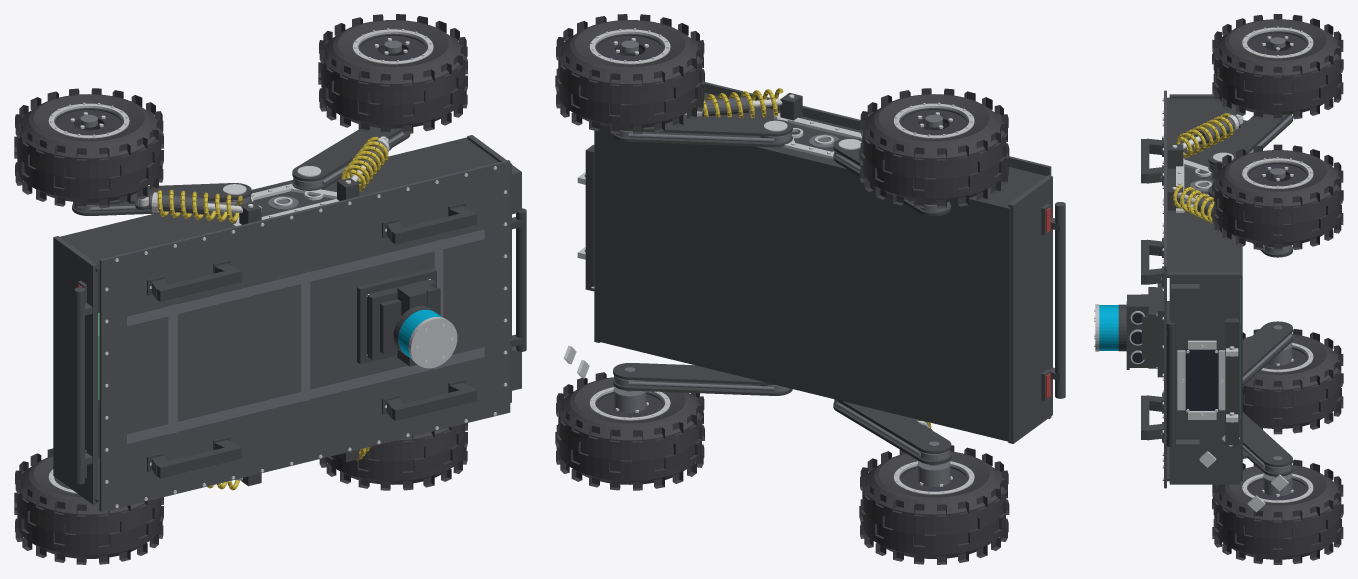
Rendered from ugv_v3_gesar.glb.
The picture shows the model from 3 angles, left to right: view 1: azimuth 30°, elevation 25°; view 2: azimuth 150°, elevation 25°; view 3: azimuth 270°, elevation 25°; orthographic projection. The views are drawn at different scales.
Parts seen in each view (by area): view 1: deck_plate, rear_armor_plates, tire_carcass_RL, tire_carcass_FL, deck_payload_rails, chassis_side_plate_L, tire_carcass_RR, tactical_grab_handles, tire_carcass_FR, mast_pedestal_base, tire_lugs_RL, tire_lugs_FL (+16 smaller); view 2: chassis_floor_skid, rear_armor_plates, tire_carcass_FL, tire_carcass_RL, tire_carcass_RR, tire_carcass_FR, tire_lugs_RL, tire_lugs_FL, tire_lugs_RR, tire_lugs_FR, chassis_side_plate_L, swing_arm_in_FR (+21 smaller); view 3: front_armor_plates, tire_carcass_RL, tire_carcass_FL, tire_carcass_FR, chassis_side_plate_L, tire_carcass_RR, tire_lugs_RL, tire_lugs_FL, tactical_grab_handles, tire_lugs_FR, front_octagonal_silver_bezel, front_sensor_window (+26 smaller).
Boxes of the visible parts, <box> form: deck_plate: <box>99,160,510,512</box>; rear_armor_plates: <box>53,236,97,504</box>; tire_carcass_RL: <box>17,94,161,202</box>; tire_carcass_FL: <box>321,20,465,128</box>; deck_payload_rails: <box>127,229,484,443</box>; chassis_side_plate_L: <box>61,138,510,271</box>; tire_carcass_RR: <box>17,455,161,558</box>; tactical_grab_handles: <box>147,202,477,478</box>; tire_carcass_FR: <box>324,423,465,484</box>; mast_pedestal_base: <box>357,268,436,364</box>; tire_lugs_RL: <box>14,88,163,208</box>; tire_lugs_FL: <box>318,14,467,134</box>; chassis_floor_skid: <box>595,125,1010,441</box>; rear_armor_plates: <box>1008,175,1065,443</box>; tire_carcass_FL: <box>558,20,702,128</box>; tire_carcass_RL: <box>862,94,1006,202</box>; tire_carcass_RR: <box>862,451,1006,558</box>; tire_carcass_FR: <box>558,377,702,484</box>; tire_lugs_RL: <box>859,88,1009,208</box>; tire_lugs_FL: <box>555,14,704,134</box>; tire_lugs_RR: <box>859,445,1009,564</box>; tire_lugs_FR: <box>555,372,704,490</box>; chassis_side_plate_L: <box>704,92,1046,210</box>; swing_arm_in_FR: <box>613,363,776,385</box>; front_armor_plates: <box>1169,272,1239,484</box>; tire_carcass_RL: <box>1214,19,1341,114</box>; tire_carcass_FL: <box>1214,150,1341,245</box>; tire_carcass_FR: <box>1214,465,1341,559</box>; chassis_side_plate_L: <box>1167,97,1242,277</box>; tire_carcass_RR: <box>1242,334,1341,428</box>; tire_lugs_RL: <box>1212,14,1343,120</box>; tire_lugs_FL: <box>1212,144,1343,250</box>; tactical_grab_handles: <box>1141,136,1163,442</box>; tire_lugs_FR: <box>1212,459,1343,564</box>; front_octagonal_silver_bezel: <box>1177,340,1288,512</box>; front_sensor_window: <box>1185,349,1218,410</box>.
Size of the model in its own units: 883 by 780 by 480.
